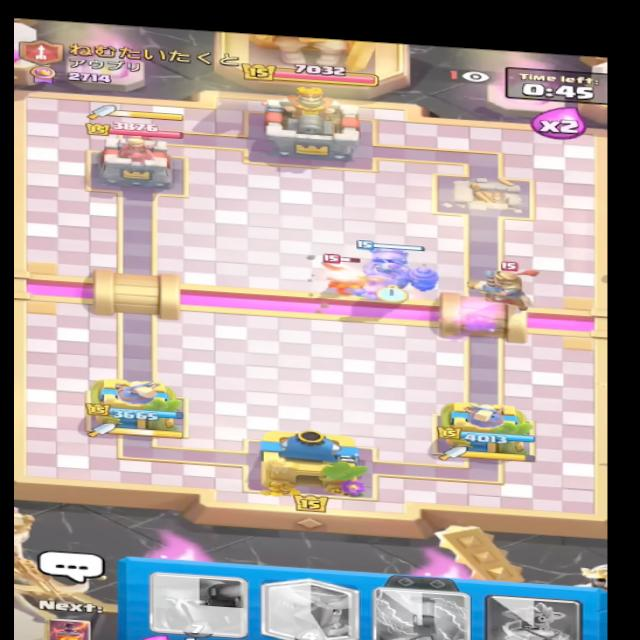dart-goblin: (313, 254, 366, 304)
prince: (472, 250, 537, 317)
